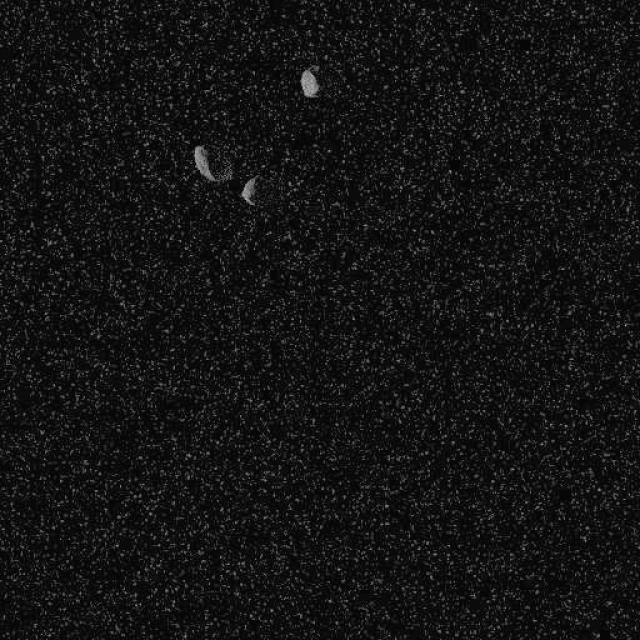D2: (192, 142, 232, 184), (239, 174, 260, 206), (299, 68, 320, 98)
